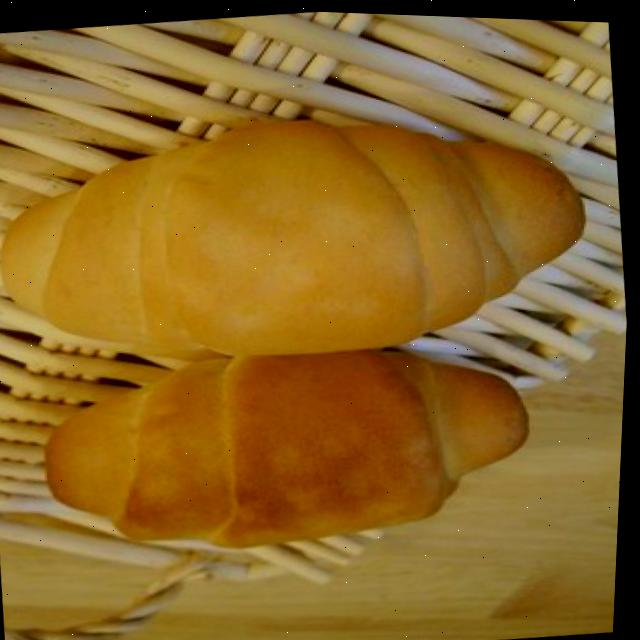面包点心: (0, 69, 613, 397)
